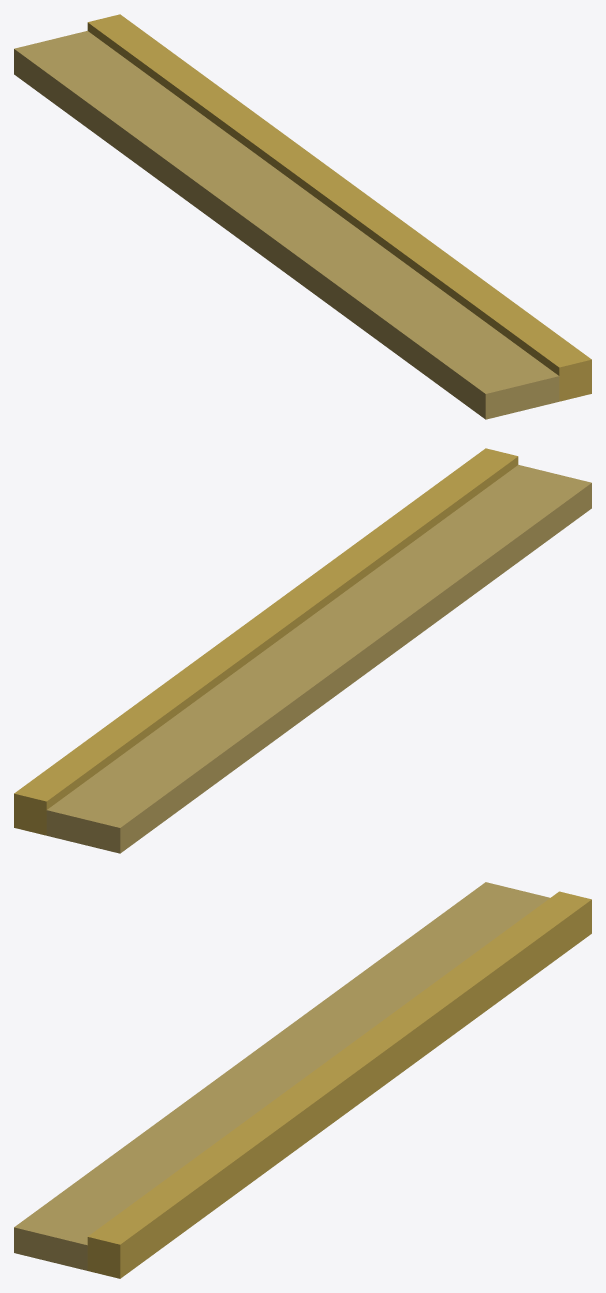
File: fld_swath.glb
3 views of the same model, one above another, from view 1: azimuth 30°, elevation 25°; view 2: azimuth 150°, elevation 25°; view 3: azimuth 330°, elevation 25° (orthographic).
Visible parts, largest first — view 1: fld_swath; view 2: fld_swath; view 3: fld_swath.
Part boxes in pixels (<box>): fld_swath: <box>14,14,591,419</box>; fld_swath: <box>14,448,591,853</box>; fld_swath: <box>14,882,591,1278</box>.
Size of the model in its own units: 0.13 by 0.04 by 1.
